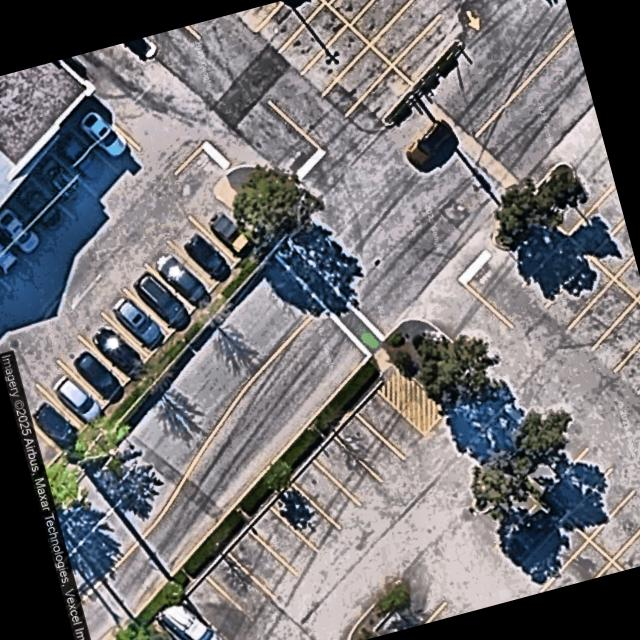car: (129, 266, 194, 331), (147, 246, 214, 308), (500, 503, 561, 568), (72, 104, 133, 162), (11, 180, 71, 238), (34, 156, 94, 214), (54, 132, 114, 190), (49, 368, 107, 426), (108, 291, 167, 348), (89, 320, 148, 377), (159, 594, 229, 640), (70, 346, 126, 403), (179, 228, 236, 284), (29, 396, 85, 450), (203, 204, 257, 259), (0, 203, 48, 260), (0, 237, 30, 284)
lot_boundary: (151, 124, 640, 640), (0, 0, 491, 481)
objects: (470, 417, 562, 510), (207, 164, 302, 240), (493, 160, 574, 248), (347, 578, 412, 640), (126, 36, 154, 56)
stall: (545, 162, 614, 234), (519, 422, 588, 494), (497, 495, 566, 567), (520, 518, 589, 590), (544, 445, 612, 517), (567, 466, 635, 538), (475, 474, 543, 546), (333, 413, 404, 481), (247, 505, 317, 573), (311, 435, 381, 503), (5, 176, 75, 244), (165, 219, 235, 287), (225, 529, 296, 596), (188, 193, 258, 260), (268, 482, 338, 549), (204, 552, 274, 619), (291, 459, 361, 526), (355, 391, 425, 458), (26, 150, 96, 217), (44, 127, 114, 194), (67, 101, 137, 168), (57, 336, 127, 403), (79, 312, 149, 379), (100, 288, 170, 355), (145, 243, 215, 310), (122, 267, 192, 334), (34, 361, 104, 428), (12, 384, 81, 451), (183, 576, 253, 640), (392, 15, 458, 82), (325, 45, 391, 112), (502, 216, 568, 283), (569, 279, 635, 346), (526, 238, 592, 305), (347, 65, 413, 131), (280, 3, 345, 70), (303, 24, 368, 91), (547, 259, 612, 325), (568, 184, 624, 256), (369, 0, 435, 61), (0, 199, 56, 266), (375, 581, 444, 635), (590, 488, 640, 560), (541, 541, 611, 592), (591, 298, 640, 370), (257, 0, 322, 50), (158, 598, 226, 640), (349, 0, 410, 43), (591, 219, 634, 277), (0, 231, 37, 289), (236, 0, 281, 28), (615, 342, 640, 392), (615, 255, 640, 299), (612, 531, 640, 570), (330, 0, 371, 22)
